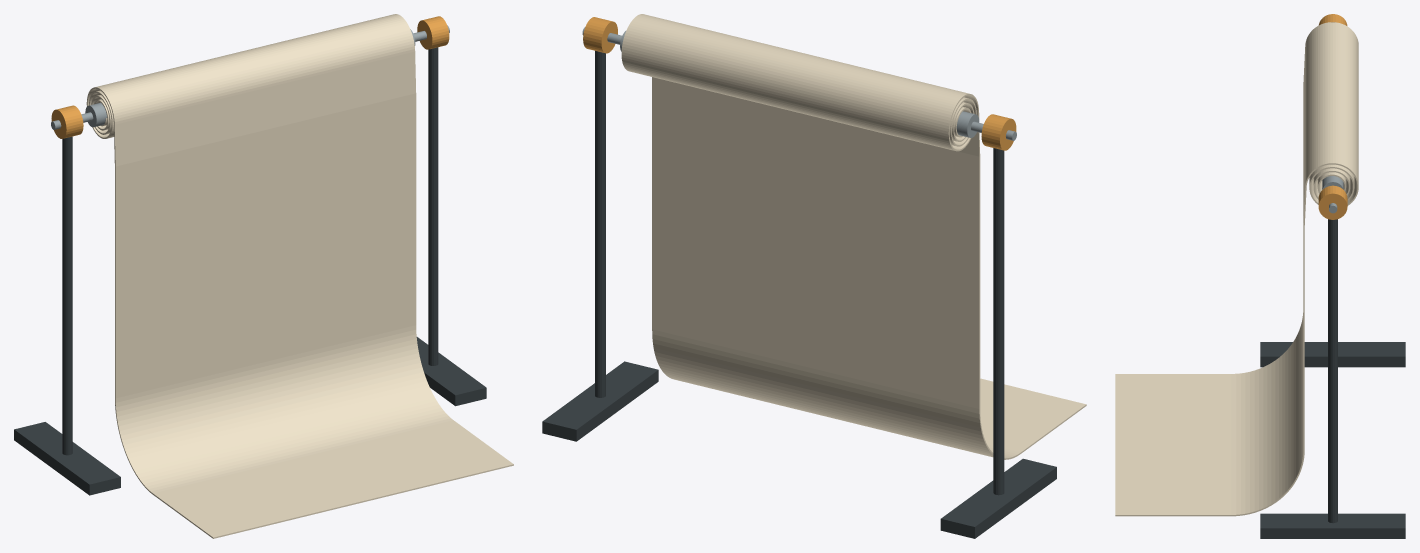
The picture shows the model from 3 angles, left to right: view 1: azimuth 30°, elevation 25°; view 2: azimuth 150°, elevation 25°; view 3: azimuth 270°, elevation 25°; orthographic projection. The views are drawn at different scales.
Visible parts, largest first — view 1: ContinuousBackdropSheet, Post_Left, Post_Right, Foot_Left, Foot_Right, Seat_Right, Seat_Left; view 2: ContinuousBackdropSheet, Post_Left, Foot_Left, Foot_Right, Post_Right, Seat_Left, Seat_Right; view 3: ContinuousBackdropSheet, Foot_Right, Post_Right, Foot_Left, Seat_Right.
Part boxes in pixels (x1=…): ContinuousBackdropSheet: x1=86, y1=14, x2=513, y2=538; Post_Left: x1=62, y1=136, x2=72, y2=455; Post_Right: x1=428, y1=47, x2=438, y2=365; Foot_Left: x1=14, y1=422, x2=120, y2=495; Foot_Right: x1=416, y1=337, x2=486, y2=406; Seat_Right: x1=417, y1=16, x2=449, y2=49; Seat_Left: x1=51, y1=105, x2=83, y2=138; ContinuousBackdropSheet: x1=621, y1=14, x2=1086, y2=459; Post_Left: x1=993, y1=148, x2=1004, y2=495; Foot_Left: x1=940, y1=458, x2=1056, y2=538; Foot_Right: x1=542, y1=361, x2=658, y2=441; Post_Right: x1=595, y1=51, x2=605, y2=397; Seat_Left: x1=981, y1=114, x2=1016, y2=150; Seat_Right: x1=583, y1=17, x2=617, y2=53; ContinuousBackdropSheet: x1=1115, y1=22, x2=1358, y2=516; Foot_Right: x1=1260, y1=513, x2=1405, y2=538; Post_Right: x1=1328, y1=219, x2=1337, y2=523; Foot_Left: x1=1260, y1=342, x2=1405, y2=367; Seat_Right: x1=1318, y1=185, x2=1347, y2=219.
Bounding box in the file's own units: 3.04 × 2.68 × 2.
